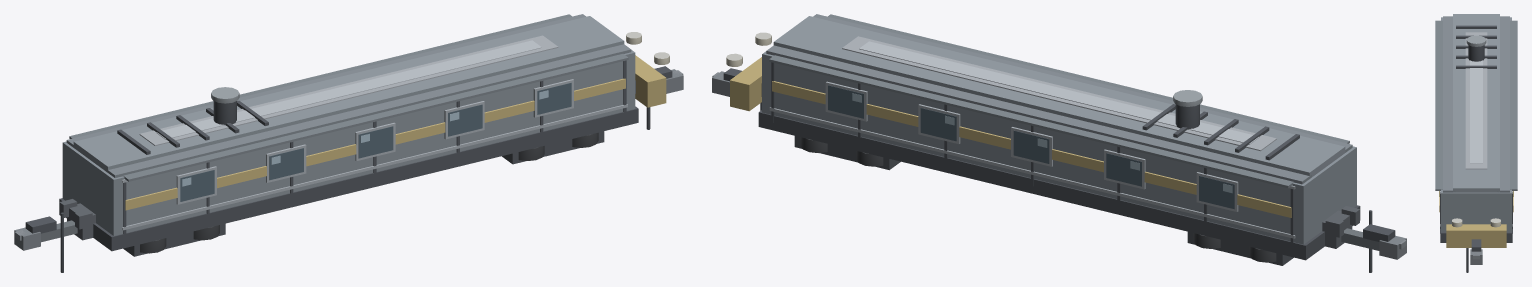
The model's file is engine.glb.
The picture shows the model from 3 angles, left to right: view 1: azimuth 30°, elevation 25°; view 2: azimuth 150°, elevation 25°; view 3: azimuth 270°, elevation 25°; orthographic projection. The views are drawn at different scales.
Visible parts, largest first — view 1: engine; view 2: engine; view 3: engine.
Part boxes in pixels (x1,y1,x2,y2): engine: (14, 14, 683, 272); engine: (712, 14, 1406, 272); engine: (1435, 14, 1517, 272).
Size of the model in its own units: 24.68 by 4.73 by 3.82.
